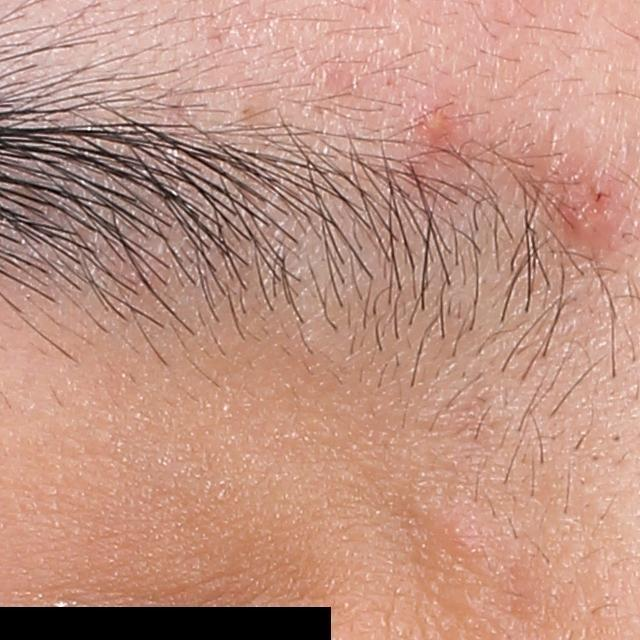papule: (562, 189, 611, 246)
